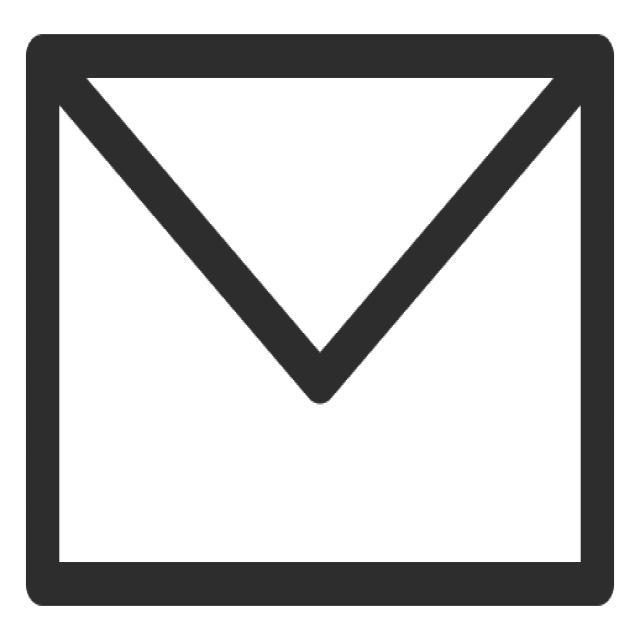letter: (15, 9, 626, 622)
